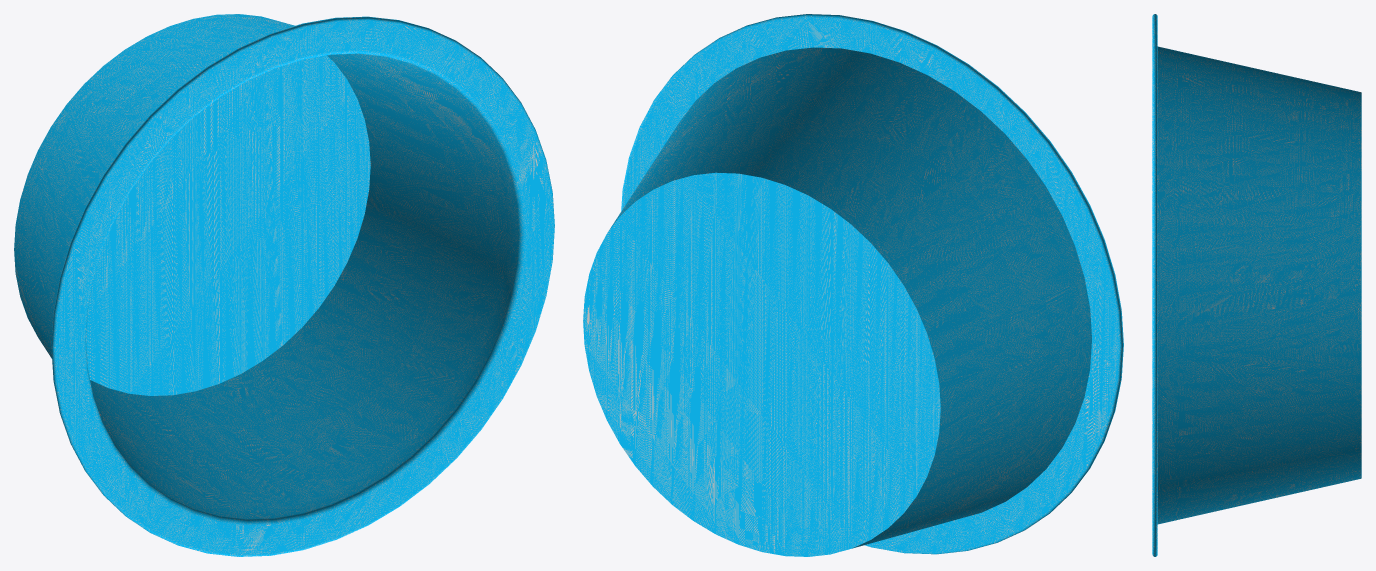
The model's file is model_scale.obj.
3 views of the same model, side by side, from view 1: azimuth 30°, elevation 25°; view 2: azimuth 150°, elevation 25°; view 3: azimuth 270°, elevation 25° (orthographic). The views are drawn at different scales.
Parts seen in each view (by area): view 1: mesh1_mesh1-geometry; view 2: mesh1_mesh1-geometry; view 3: mesh1_mesh1-geometry.
Part boxes in pixels (x1,y1,x2,y2): mesh1_mesh1-geometry: (14,14,554,556); mesh1_mesh1-geometry: (583,14,1123,556); mesh1_mesh1-geometry: (1152,14,1361,556).
Size of the model in its own units: 0.1414 by 0.1414 by 0.0544.
